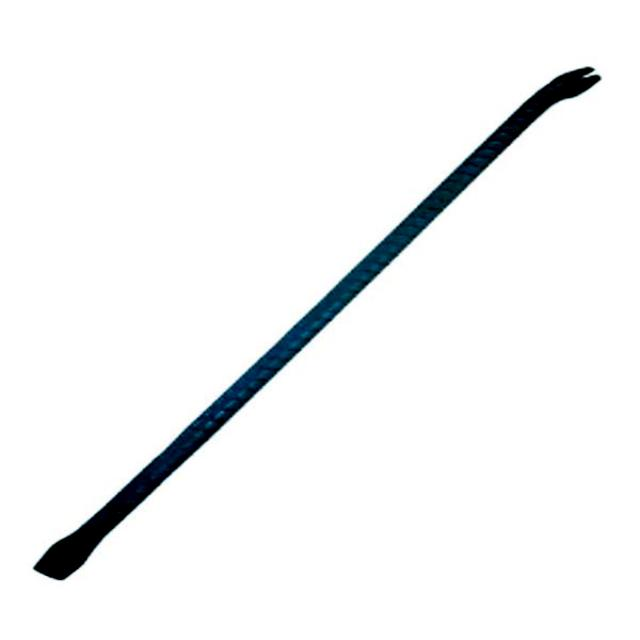crow bar: (23, 39, 599, 591)
